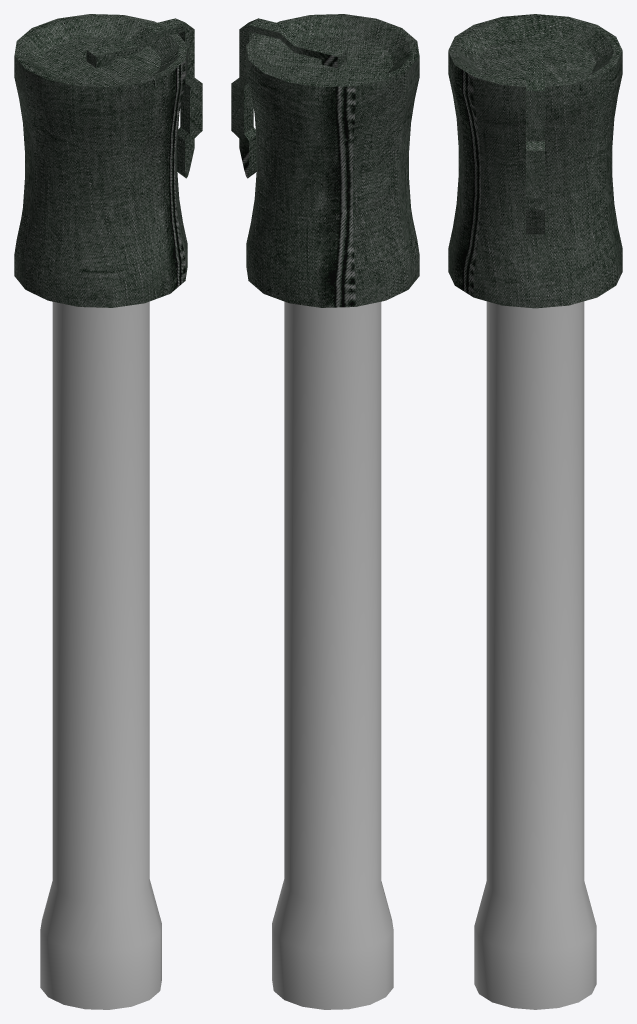
Rendered from stick_granade.fbx.
The picture shows the model from 3 angles, left to right: view 1: azimuth 30°, elevation 25°; view 2: azimuth 150°, elevation 25°; view 3: azimuth 270°, elevation 25°; orthographic projection.
Parts seen in each view (by area): view 1: Cylinder.004; view 2: Cylinder.004; view 3: Cylinder.004.
Part boxes in pixels (bbox=[...]): Cylinder.004: bbox=[14, 14, 202, 1009]; Cylinder.004: bbox=[231, 14, 419, 1009]; Cylinder.004: bbox=[448, 14, 622, 1009].
Bounding box in the file's own units: 43.79 × 229 × 38.47.
